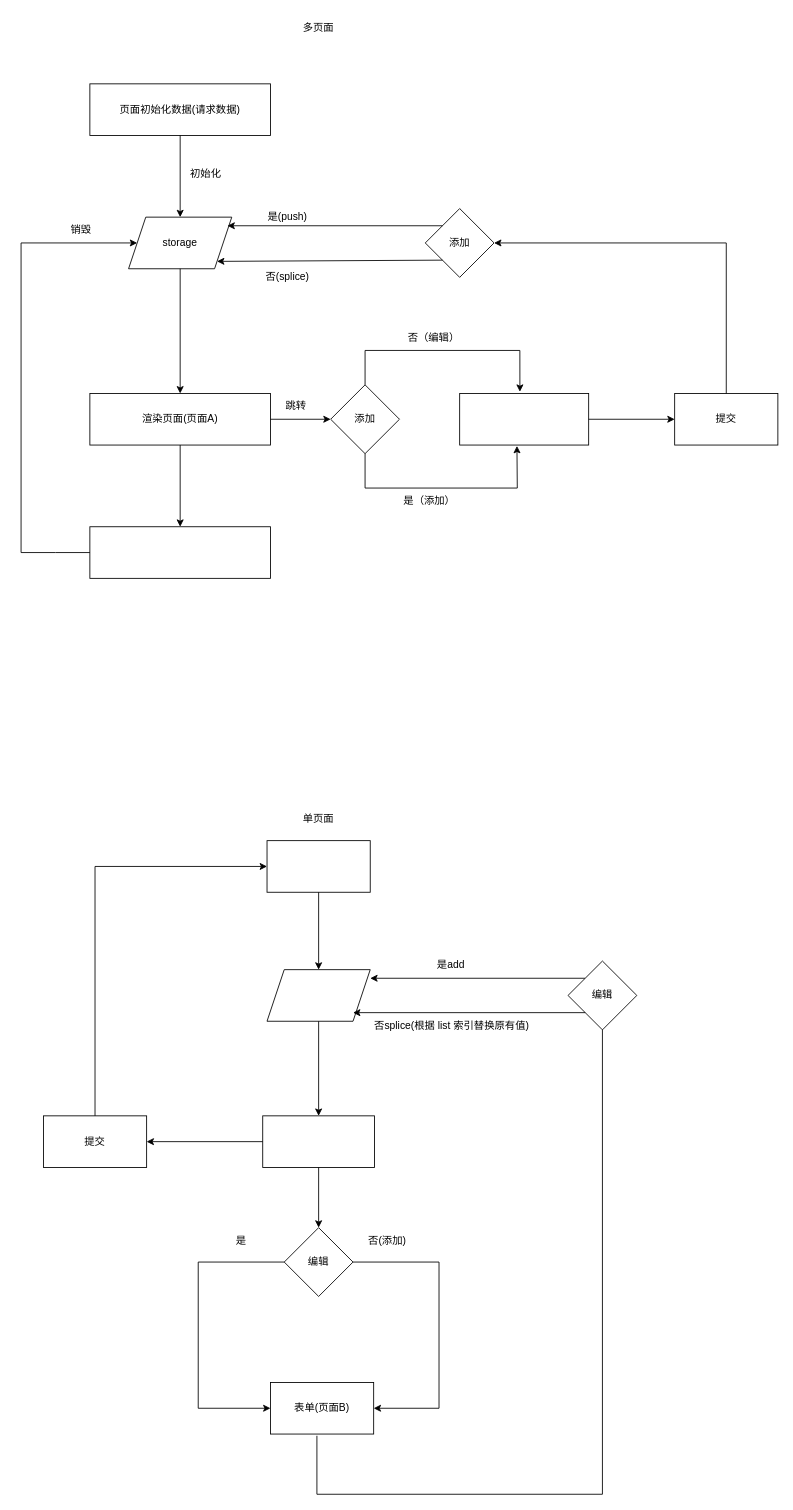
Image size: 793x1510. Some labels were removed from this diagram. Each missing label, with the centre of its shape:
"获取数据页面初始化" goes at [318,866].
"表单信息" goes at [318,995].
"表单页面(渲染页面B)" goes at [524,419].
"页面渲染(列表页表单A) 与页面B是兄弟关系" goes at [318,1141].
"页面销毁" goes at [179,552].
